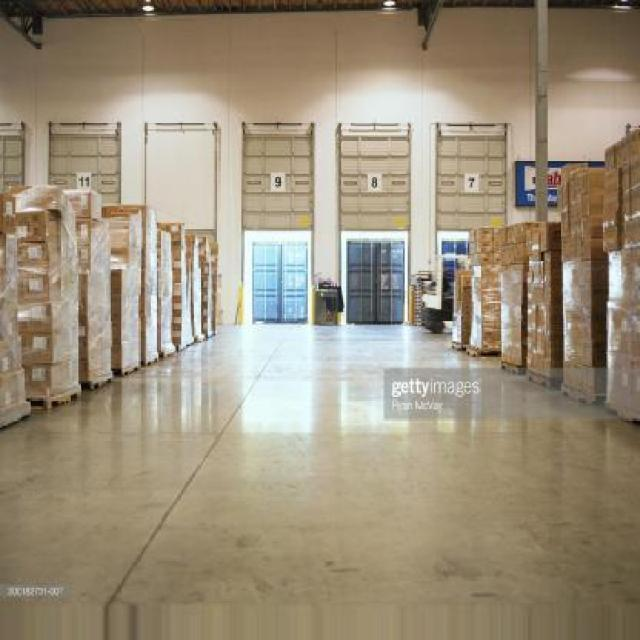forklift: (420, 255, 474, 335)
